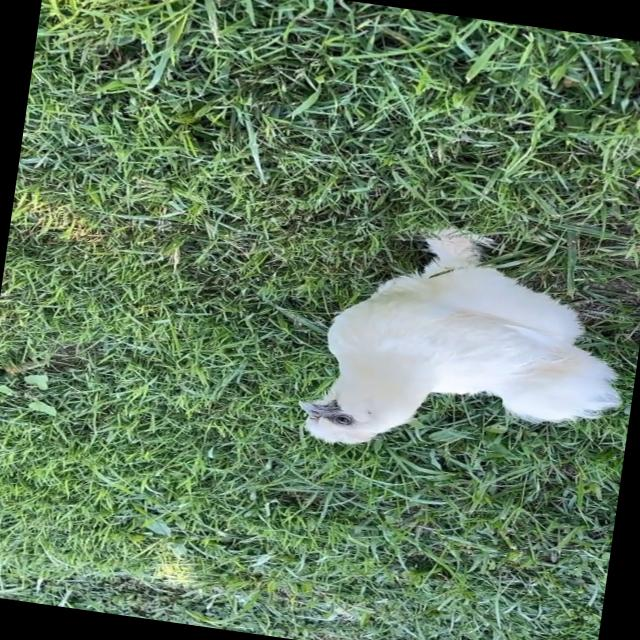menacing: (247, 198, 640, 506)
